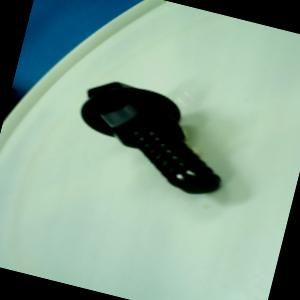parafuso: (65, 70, 242, 204)
